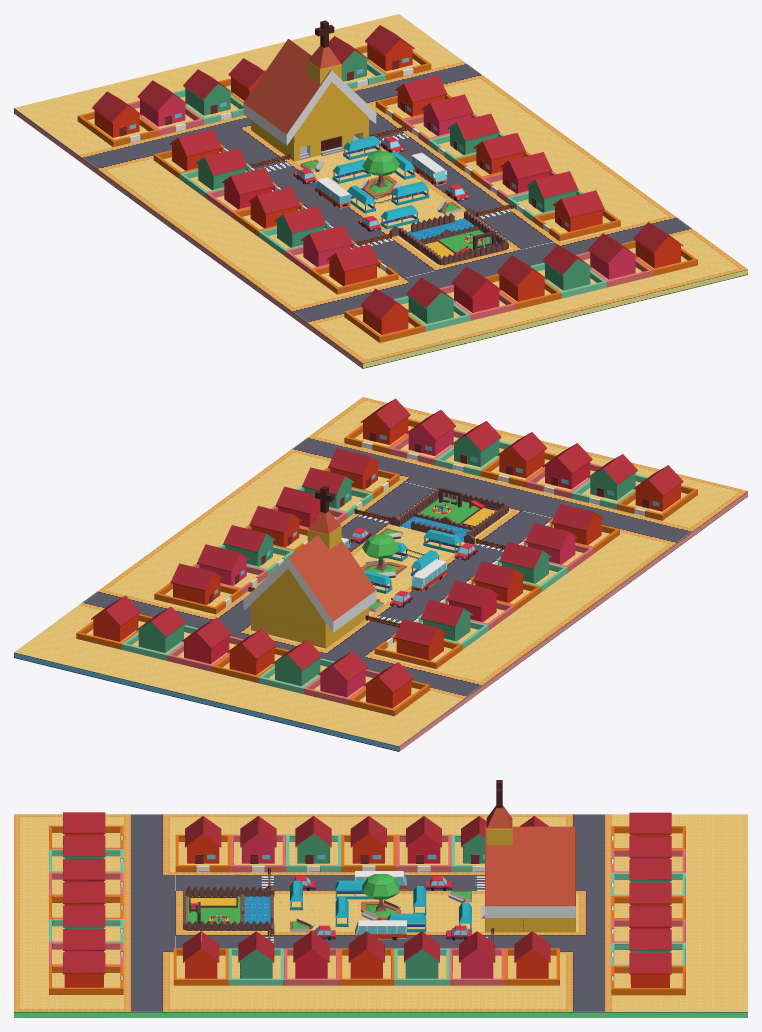
File: map.gltf
The picture shows the model from 3 angles, top to bottom: view 1: azimuth 30°, elevation 25°; view 2: azimuth 150°, elevation 25°; view 3: azimuth 270°, elevation 25°; orthographic projection. The views are drawn at different scales.
Parts seen in each view (by area): view 1: chao, casa (×27), predio_2 (×2), onibus (×2), predio, sphere; view 2: chao, casa (×28), predio_2 (×2), predio_1, onibus, sphere; view 3: chao, casa (×27), predio_2 (×2), cuboid (×10), onibus (×2), sphere, predio_1, predio, jardim.
Boxes of the visible parts, x1=… form: chao: x1=14, y1=14, x2=747, y2=368; casa (×27): x1=92, y1=25, x2=683, y2=335; predio_2 (×2): x1=243, y1=20, x2=376, y2=145; onibus (×2): x1=315, y1=152, x2=446, y2=208; predio: x1=275, y1=126, x2=368, y2=161; sphere: x1=362, y1=151, x2=399, y2=175; chao: x1=14, y1=397, x2=747, y2=751; casa (×28): x1=91, y1=398, x2=683, y2=708; predio_2 (×2): x1=243, y1=486, x2=376, y2=632; predio_1: x1=251, y1=613, x2=350, y2=648; onibus: x1=411, y1=559, x2=446, y2=592; sphere: x1=362, y1=534, x2=399, y2=558; chao: x1=14, y1=814, x2=747, y2=1017; casa (×27): x1=63, y1=812, x2=671, y2=987; predio_2 (×2): x1=485, y1=780, x2=575, y2=917; cuboid (×10): x1=52, y1=896, x2=682, y2=995; onibus (×2): x1=355, y1=871, x2=406, y2=939; sphere: x1=362, y1=874, x2=399, y2=899; predio_1: x1=524, y1=918, x2=575, y2=932; predio: x1=481, y1=904, x2=523, y2=932; jardim: x1=360, y1=901, x2=401, y2=920.
Bounding box in the file's own units: 72 × 23.38 × 113.
Materials: 12 (12 with a texture image).
